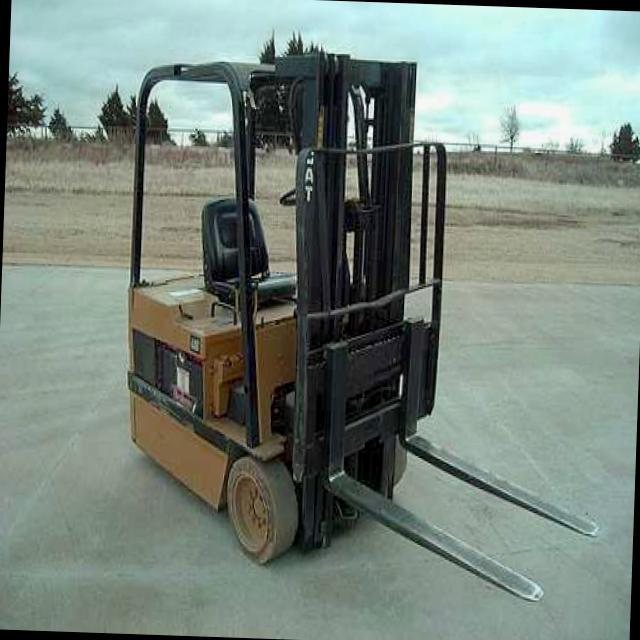forklift: (116, 43, 454, 580)
